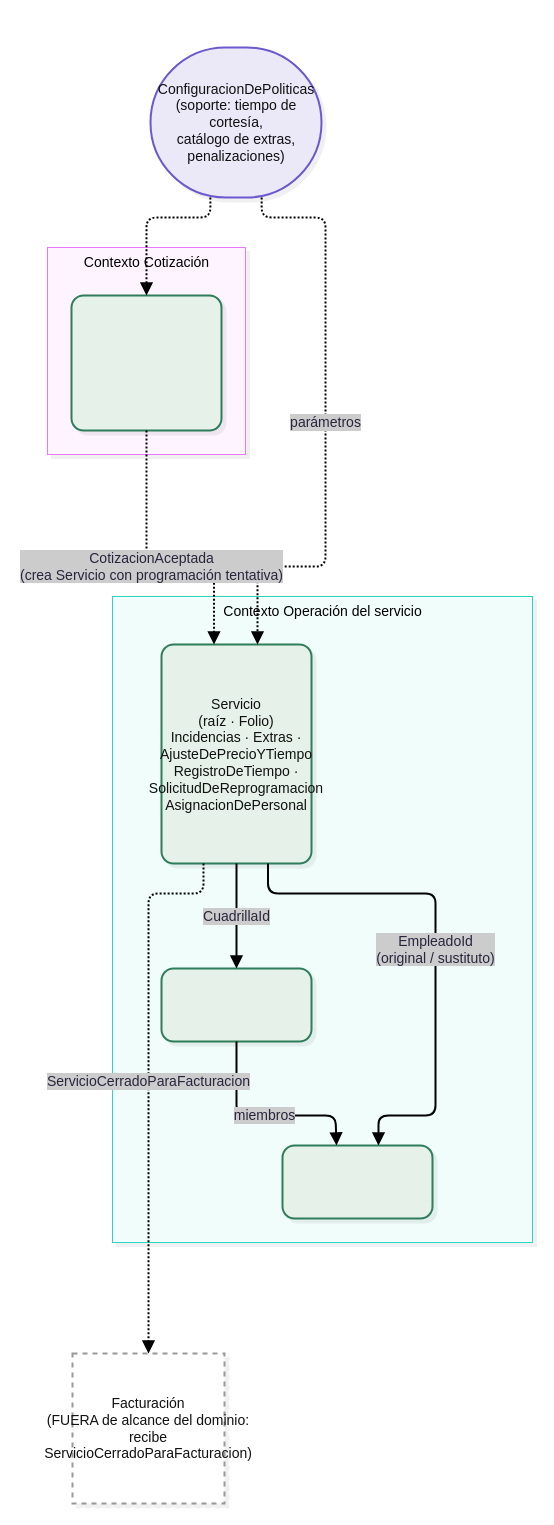
Some shapes in this 554 by 1525 pixel diagram are drawn without their labels. Each missing label, with the centre of its shape:
"Cotización (raíz · Folio) estados: Vigente / Aceptada / Rechazada" belongs at point (148, 364).
"Cuadrilla (raíz mínima)" belongs at point (238, 1006).
"Empleado (raíz mínima)" belongs at point (359, 1183).
